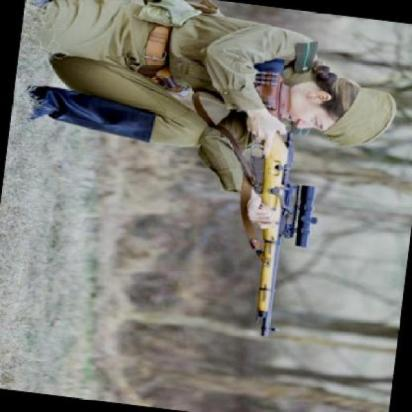Gun: (201, 54, 330, 342)
